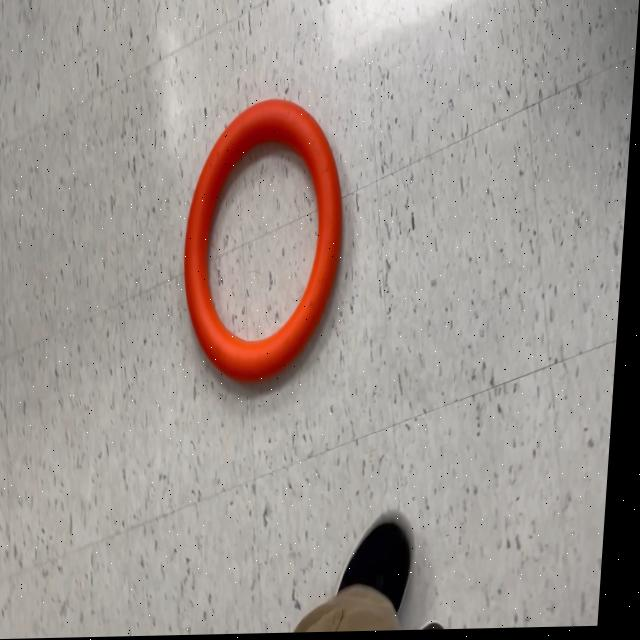note: (179, 95, 356, 388)
